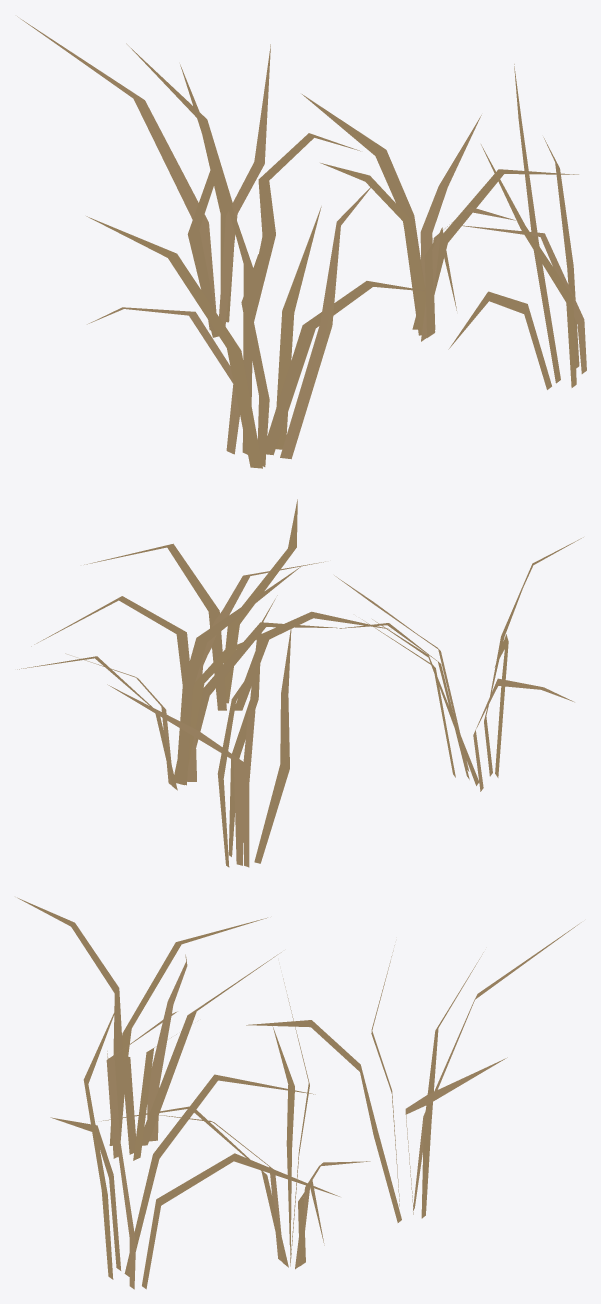
File: Grass_f_OneS_06.fbx
3 renders of one model, top to bottom at view 1: azimuth 30°, elevation 25°; view 2: azimuth 150°, elevation 25°; view 3: azimuth 270°, elevation 25°, orthographic. The views are drawn at different scales.
Visible parts, largest first — view 1: Grass_f_OneS_06; view 2: Grass_f_OneS_06; view 3: Grass_f_OneS_06.
Part boxes in pixels (x1=…): Grass_f_OneS_06: x1=17, y1=16, x2=586, y2=468; Grass_f_OneS_06: x1=17, y1=499, x2=583, y2=867; Grass_f_OneS_06: x1=17, y1=897, x2=581, y2=1289.
Bounding box in the file's own units: 0.8871 × 0.4301 × 0.8486.
